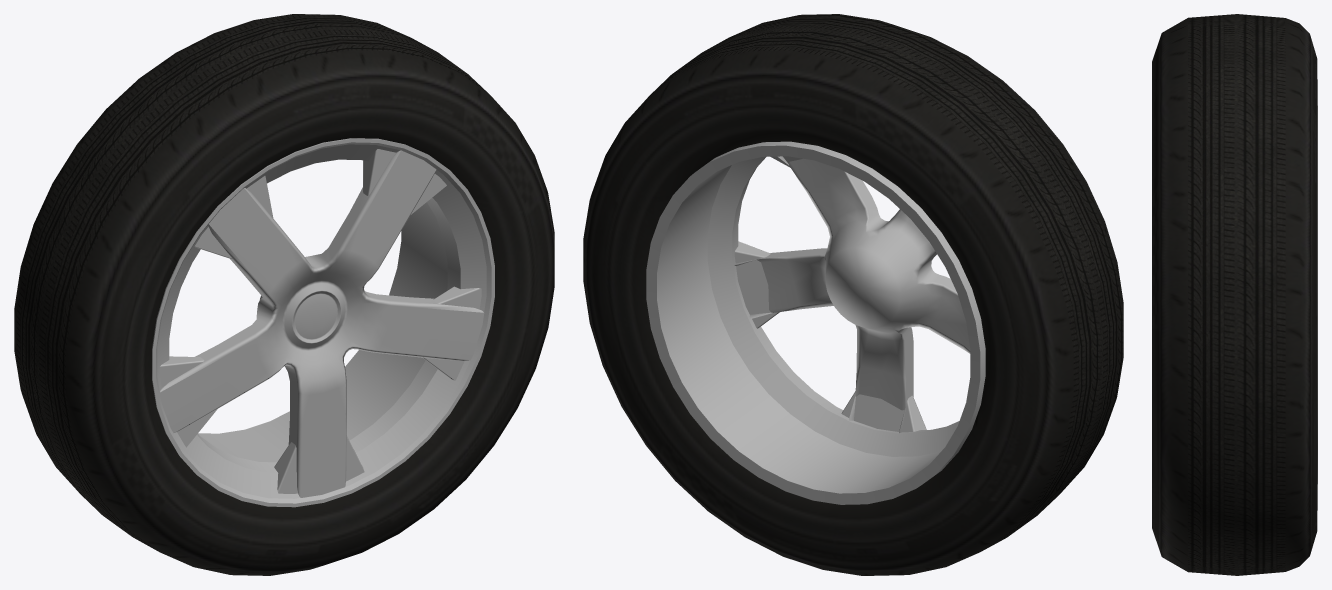
3 views of the same model, side by side, from view 1: azimuth 30°, elevation 25°; view 2: azimuth 150°, elevation 25°; view 3: azimuth 270°, elevation 25° (orthographic).
Parts seen in each view (by area): view 1: Y175_18_901B_R_2_DM_Y175_18_901B_R, Y175_18_901B_R_Y175_18_901B_R_1_DaS; view 2: Y175_18_901B_R_2_DM_Y175_18_901B_R, Y175_18_901B_R_Y175_18_901B_R_1_DaS; view 3: Y175_18_901B_R_2_DM_Y175_18_901B_R, Y175_18_901B_R_Y175_18_901B_R_1_DaS.
Boxes of the visible parts, left/top/right/bottom form: Y175_18_901B_R_2_DM_Y175_18_901B_R: left=14, top=14, right=554, bottom=575; Y175_18_901B_R_Y175_18_901B_R_1_DaS: left=152, top=138, right=494, bottom=507; Y175_18_901B_R_2_DM_Y175_18_901B_R: left=583, top=14, right=1123, bottom=575; Y175_18_901B_R_Y175_18_901B_R_1_DaS: left=646, top=141, right=985, bottom=504; Y175_18_901B_R_2_DM_Y175_18_901B_R: left=1152, top=14, right=1317, bottom=575; Y175_18_901B_R_Y175_18_901B_R_1_DaS: left=1317, top=106, right=1317, bottom=483.
Bounding box in the file's own units: 72 × 72.27 × 21.27.
